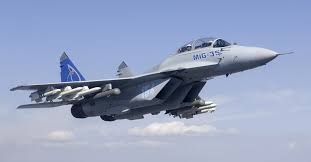fighter: (8, 34, 285, 122)
